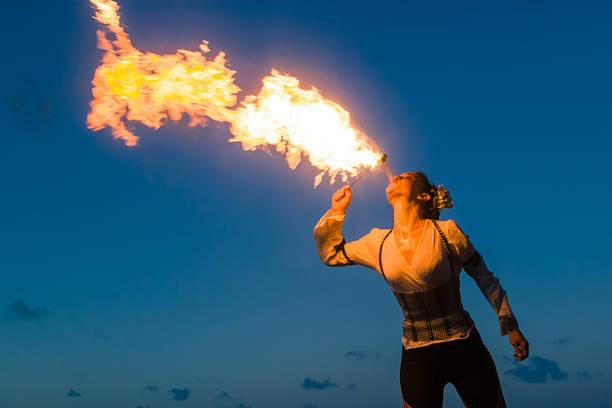Fire: (83, 0, 381, 182)
